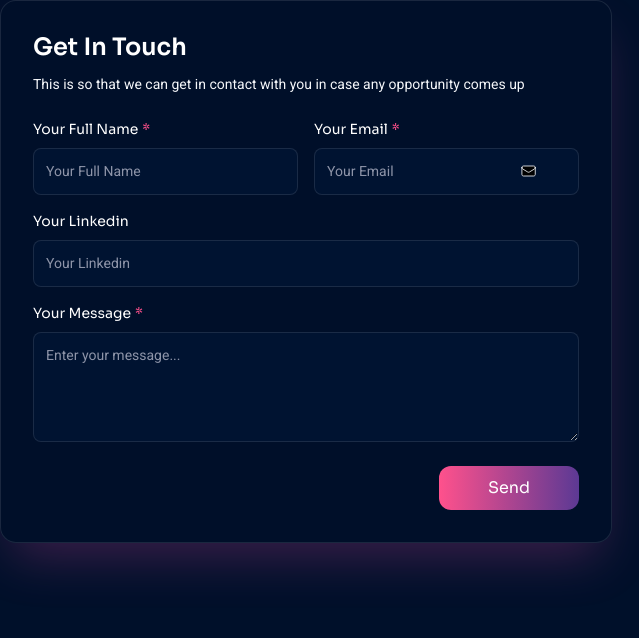
Test: ContactForm Component › should submit the form with valid data and show a success message
The image size is (639, 638).
// Fill out the form with valid data
Type "Jane Doe" into the field with placeholder "Your Full Name".
click(166, 171); type("Jane Doe")  # box [33,148,298,195]
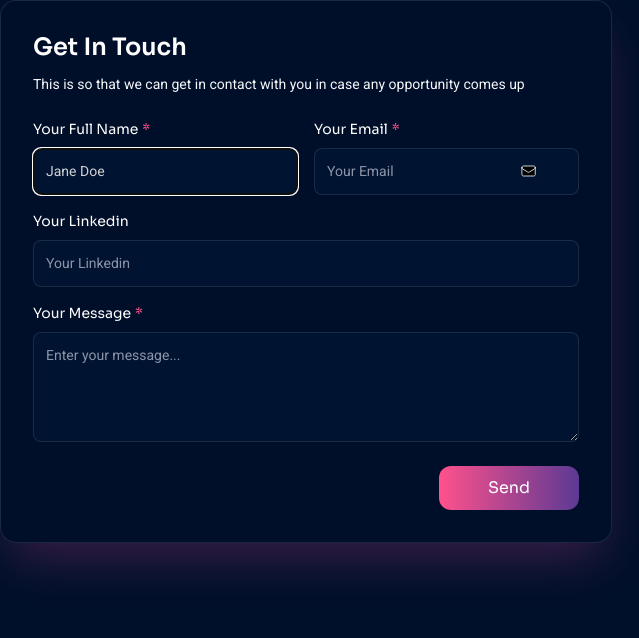
Type "jane.doe@example.com" into the field with placeholder "Your Email".
click(446, 171); type("jane.doe@example.com")  # box [314,148,579,195]
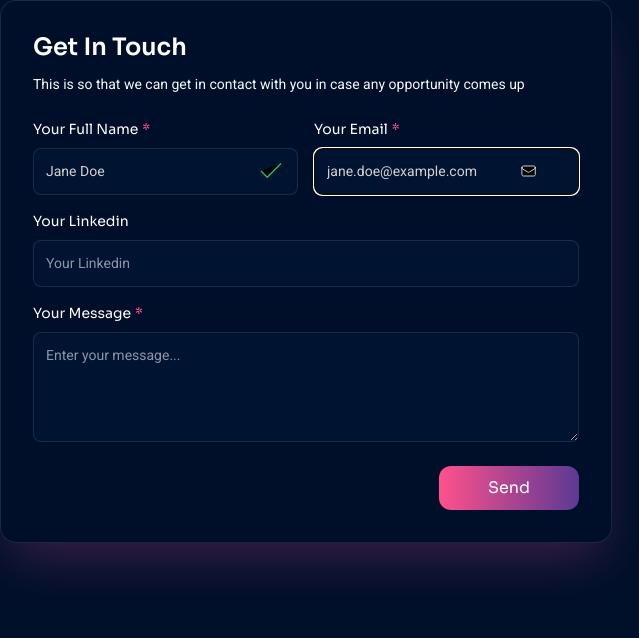
Type "This is a valid test message." into the text box with placeholder "Enter your message...".
click(306, 387); type("This is a valid test message.")  # box [33,332,579,442]
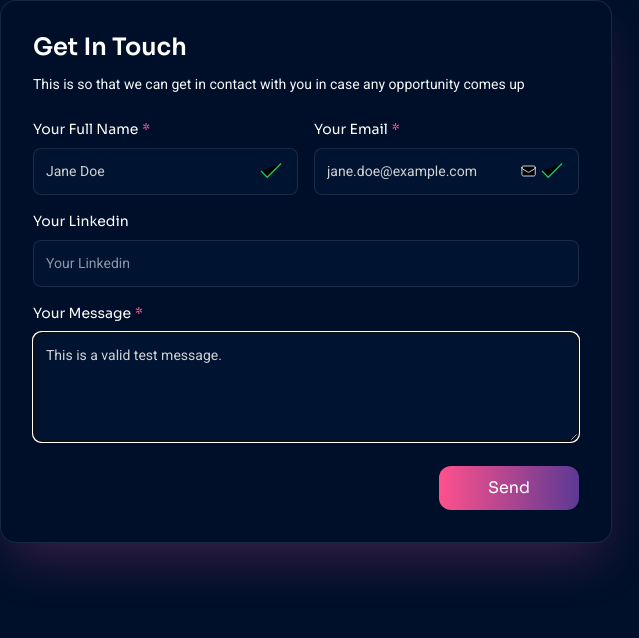
// Click the submit button
Click the button "Send".
click(509, 488)  # box [439,466,579,510]
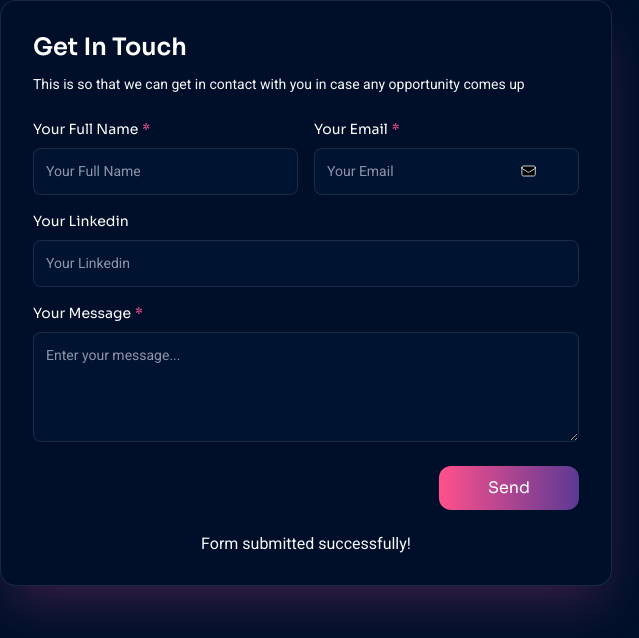
Expected: the text "Form submitted successfully!" is shown, [201,534,411,553]
